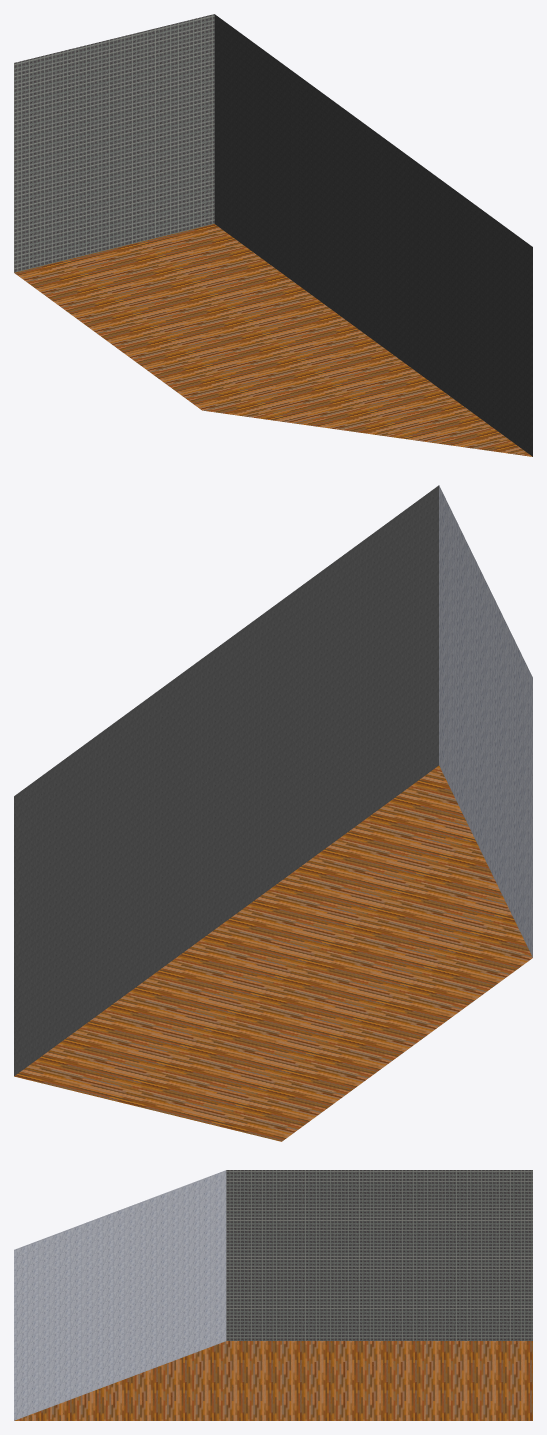
File: RoomTest3.gltf
The picture shows the model from 3 angles, top to bottom: view 1: azimuth 30°, elevation 25°; view 2: azimuth 150°, elevation 25°; view 3: azimuth 270°, elevation 25°; orthographic projection. The views are drawn at different scales.
Parts seen in each view (by area): view 1: CurtainHeavy, ParquetOnConcrete, GlassThick; view 2: CurtainHeavy, ParquetOnConcrete, Marble; view 3: GlassThick, Marble, ParquetOnConcrete.
Boxes of the visible parts, left/top/right/bottom form: CurtainHeavy: left=214, top=14, right=532, bottom=456; ParquetOnConcrete: left=14, top=224, right=532, bottom=456; GlassThick: left=14, top=14, right=214, bottom=272; CurtainHeavy: left=14, top=485, right=438, bottom=1076; ParquetOnConcrete: left=14, top=765, right=532, bottom=1141; Marble: left=439, top=485, right=532, bottom=957; GlassThick: left=226, top=1170, right=532, bottom=1340; Marble: left=14, top=1170, right=226, bottom=1420; ParquetOnConcrete: left=14, top=1341, right=532, bottom=1420.
Size of the model in its own units: 8 by 8 by 22.
4 materials, 4 textured.
